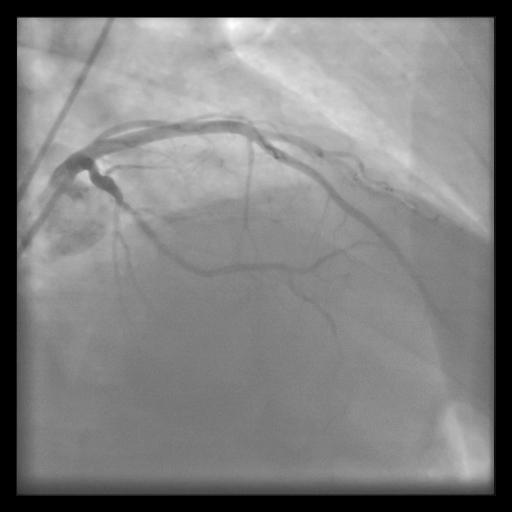Stenosis: (110, 187, 134, 215)
